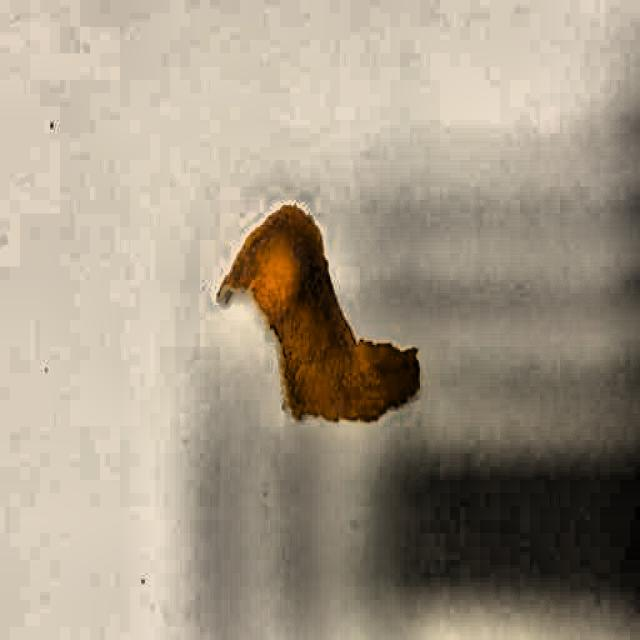trash: (199, 200, 424, 430)
